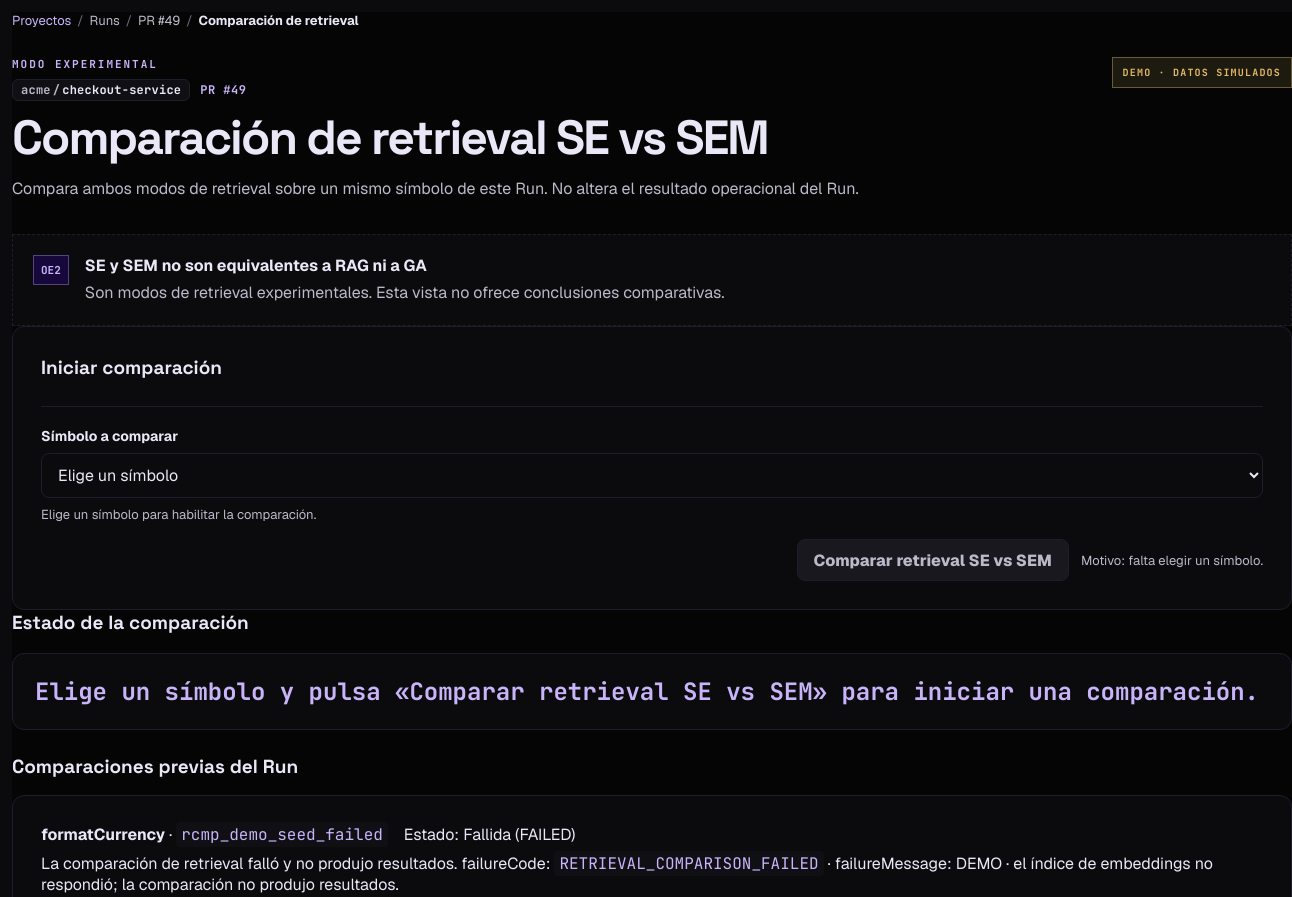
Scenario: RetrievalComparisonPage (WI-CONSOLE-014, Corte B) › error 404 ANALYSIS_SYMBOL_NOT_FOUND: alerta con mensaje propio y Correlation ID
Select "formatCurrency · FUNCTION · src/shared/money.ts" in the dropdown labelled "Símbolo a comparar": (652, 476) x1=41 y1=453 x2=1263 y2=498
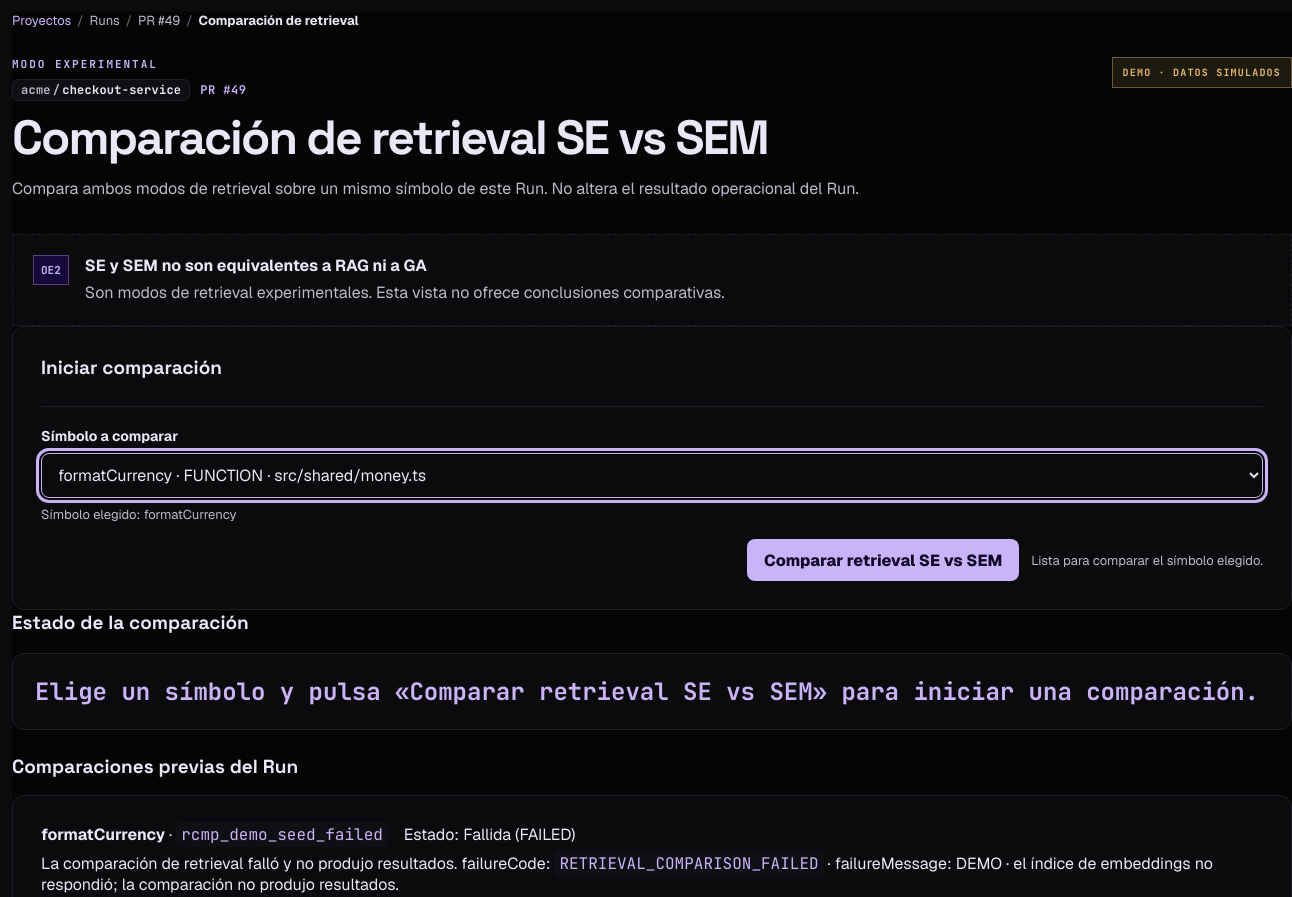
Click the button "Comparar retrieval SE vs SEM": (883, 560) x1=747 y1=539 x2=1019 y2=581
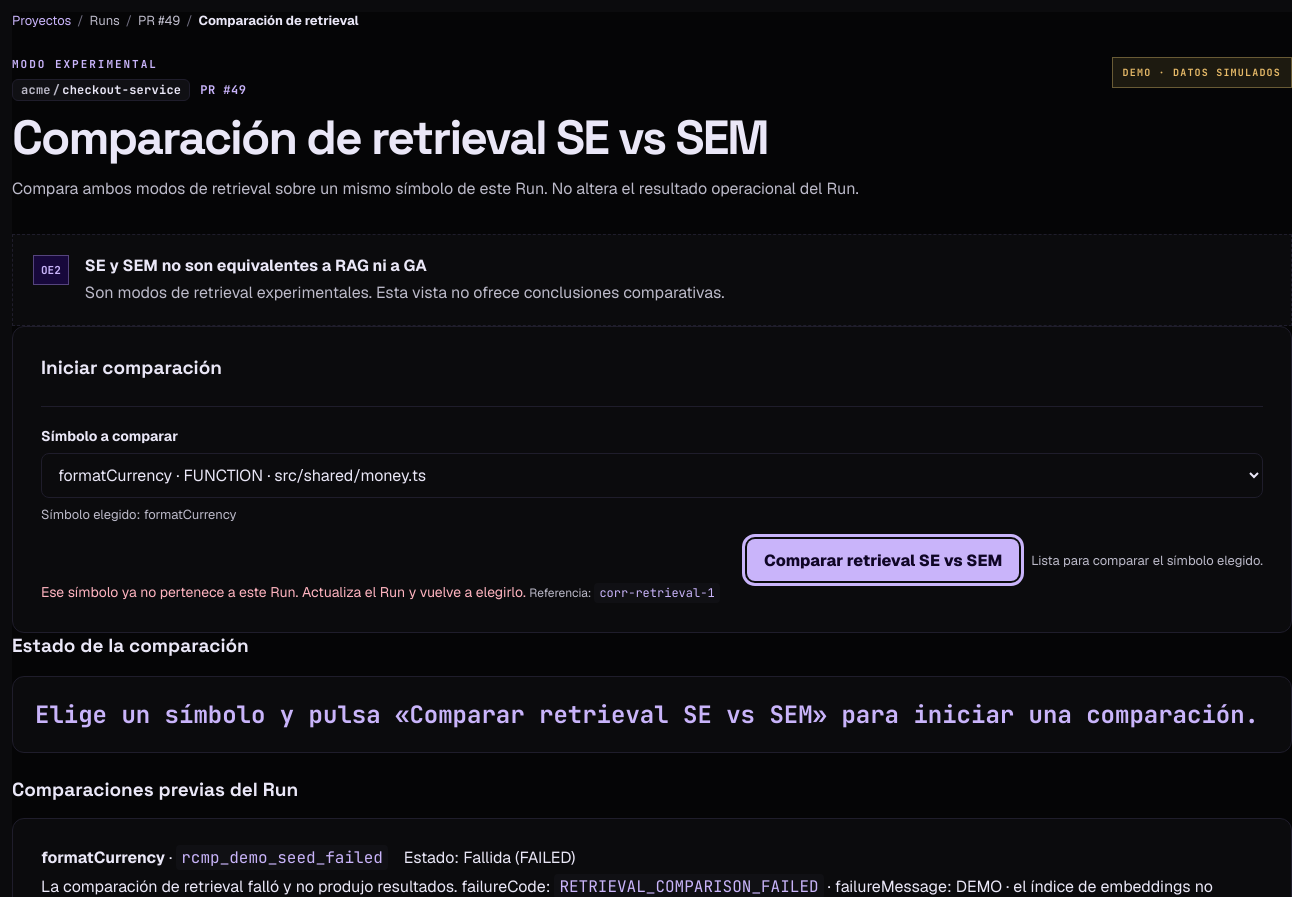
Now the 1st message shows "Ese símbolo ya no pertenece a este Run. Actualiza el Run y vuelve a elegirlo.", box x1=41 y1=583 x2=526 y2=601
Now the 1st message shows "corr-retrieval-1", box x1=599 y1=585 x2=715 y2=601
